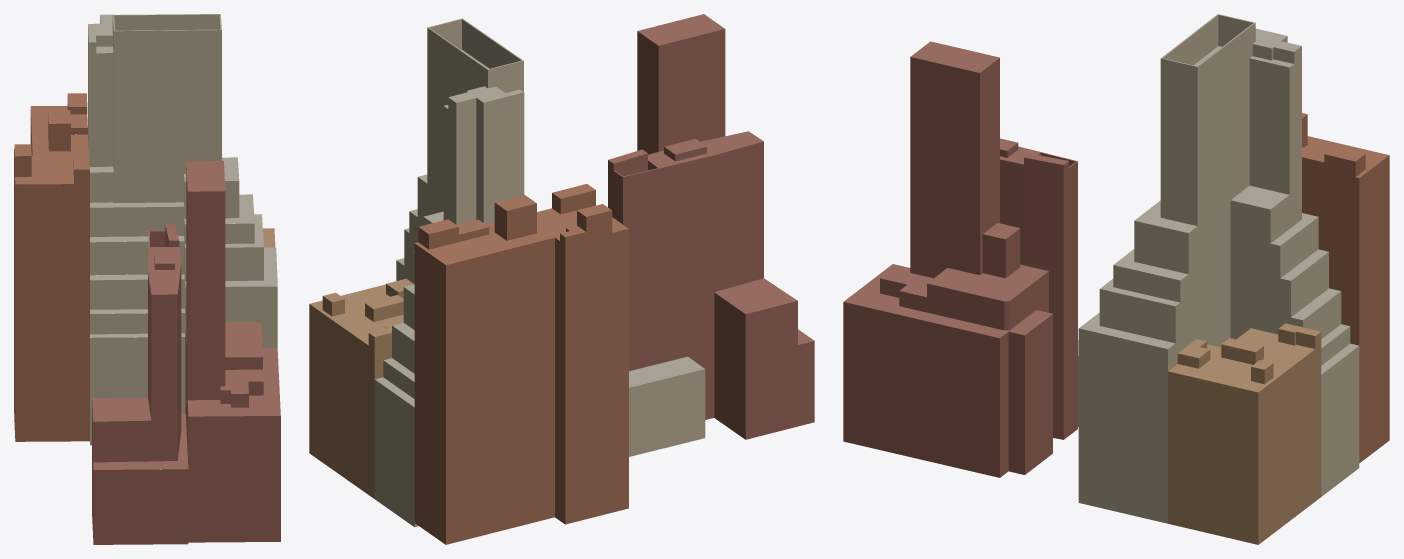
The model's file is tile-5_-14.glb.
3 renders of one model, left to right at view 1: azimuth 30°, elevation 25°; view 2: azimuth 150°, elevation 25°; view 3: azimuth 270°, elevation 25°, orthographic. The views are drawn at different scales.
Parts seen in each view (by area): view 1: wall, roof; view 2: wall, roof; view 3: wall, roof.
Part boxes in pixels (left/top/right/bottom): wall: left=14, top=14, right=280, bottom=544; roof: left=14, top=14, right=280, bottom=469; wall: left=309, top=19, right=814, bottom=544; roof: left=309, top=14, right=814, bottom=407; wall: left=843, top=15, right=1389, bottom=544; roof: left=843, top=14, right=1388, bottom=392.
Size of the model in its own units: 121 by 140 by 159.
